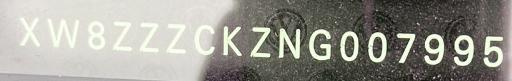letter: (46, 16, 80, 49), (248, 25, 274, 58), (277, 27, 301, 62), (306, 28, 332, 59), (18, 15, 42, 48), (136, 20, 160, 53), (337, 29, 361, 62), (365, 30, 389, 63), (220, 22, 242, 57), (482, 33, 504, 68), (163, 23, 187, 54), (193, 24, 215, 57), (394, 30, 416, 63), (423, 32, 445, 65), (452, 34, 474, 65), (112, 19, 132, 52), (86, 20, 106, 51)
